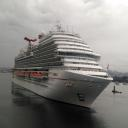cruises: (12, 21, 115, 114)
